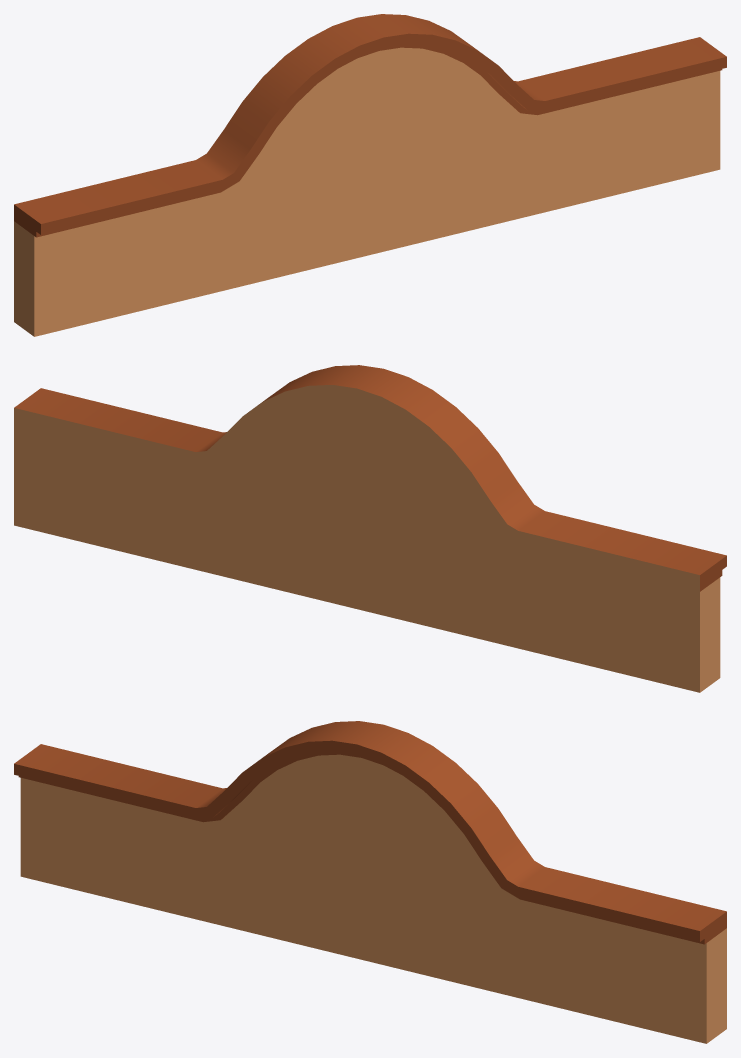
Rendered from ROOF_A4.fbx.
The picture shows the model from 3 angles, top to bottom: view 1: azimuth 30°, elevation 25°; view 2: azimuth 150°, elevation 25°; view 3: azimuth 330°, elevation 25°; orthographic projection.
Visible parts, largest first — view 1: ROOF_A4; view 2: ROOF_A4; view 3: ROOF_A4.
Part boxes in pixels (x1,y1,x2,y2): ROOF_A4: (14,14,726,336); ROOF_A4: (14,365,726,692); ROOF_A4: (14,721,726,1043).
Size of the model in its own units: 694 by 213 by 47.25.
